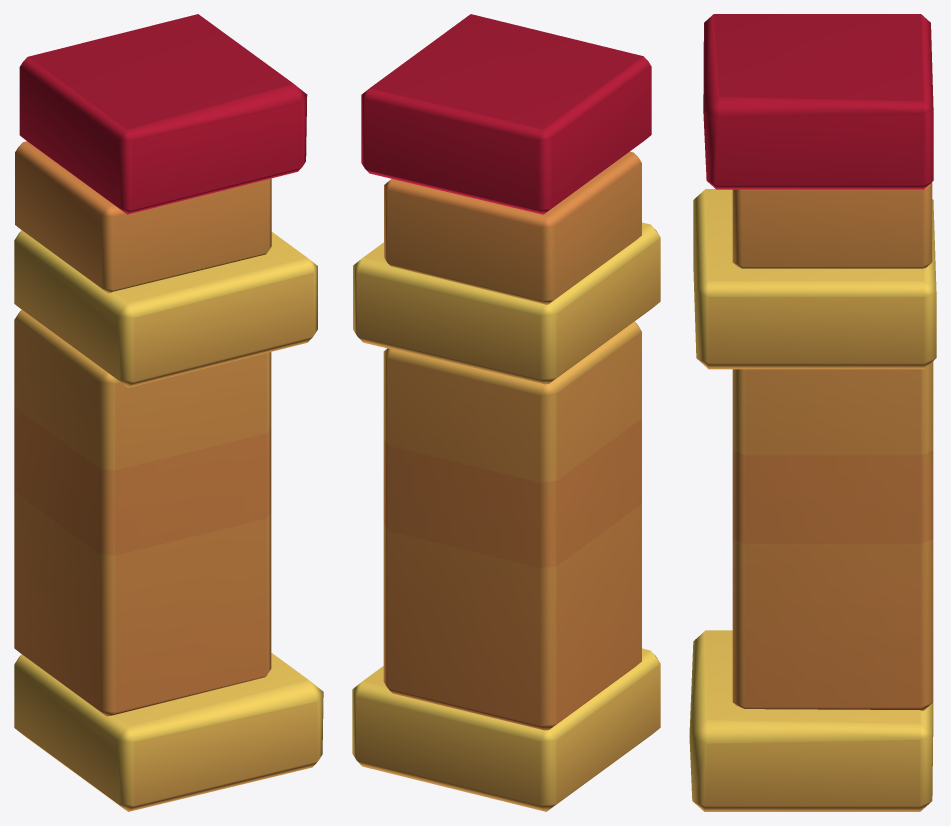
File: wall_mid_corner_conv.fbx
3 views of the same model, side by side, from view 1: azimuth 30°, elevation 25°; view 2: azimuth 150°, elevation 25°; view 3: azimuth 270°, elevation 25° (orthographic). The views are drawn at different scales.
Parts seen in each view (by area): view 1: wall_mid_corner_conv2; view 2: wall_mid_corner_conv2; view 3: wall_mid_corner_conv2.
Boxes of the visible parts, x1,y1,x2,y2 form: wall_mid_corner_conv2: (14, 14, 323, 811); wall_mid_corner_conv2: (352, 14, 660, 811); wall_mid_corner_conv2: (689, 14, 936, 811).
Bounding box in the file's own units: 127 × 402 × 127.
